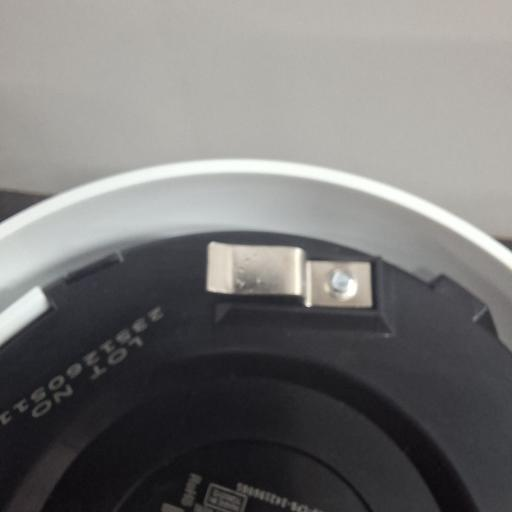yaysiz: (203, 238, 380, 308)
